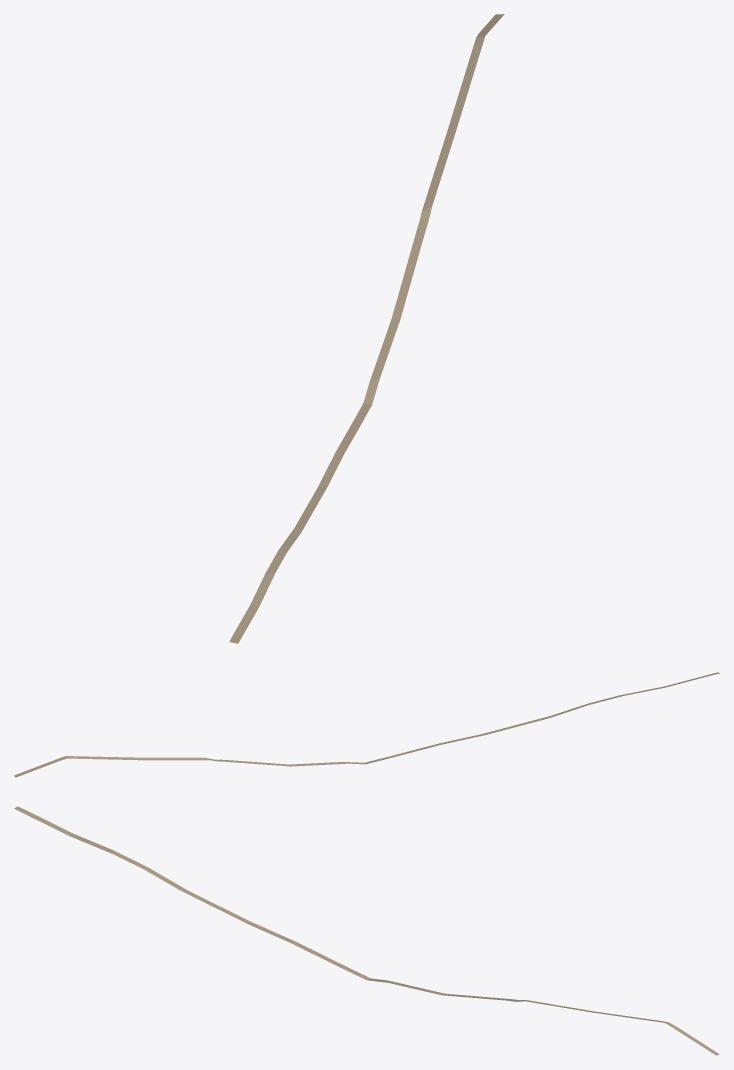
Rendered from farm_-27_-31_track.glb.
3 renders of one model, top to bottom at view 1: azimuth 30°, elevation 25°; view 2: azimuth 150°, elevation 25°; view 3: azimuth 270°, elevation 25°, orthographic. The views are drawn at different scales.
Visible parts, largest first — view 1: geometry_0; view 2: geometry_0; view 3: geometry_0.
Part boxes in pixels (x1,y1,x2,y2): geometry_0: (229, 14, 504, 643); geometry_0: (14, 672, 719, 777); geometry_0: (14, 806, 719, 1055).
Bounding box in the file's own units: 348 × 41.05 × 411.
